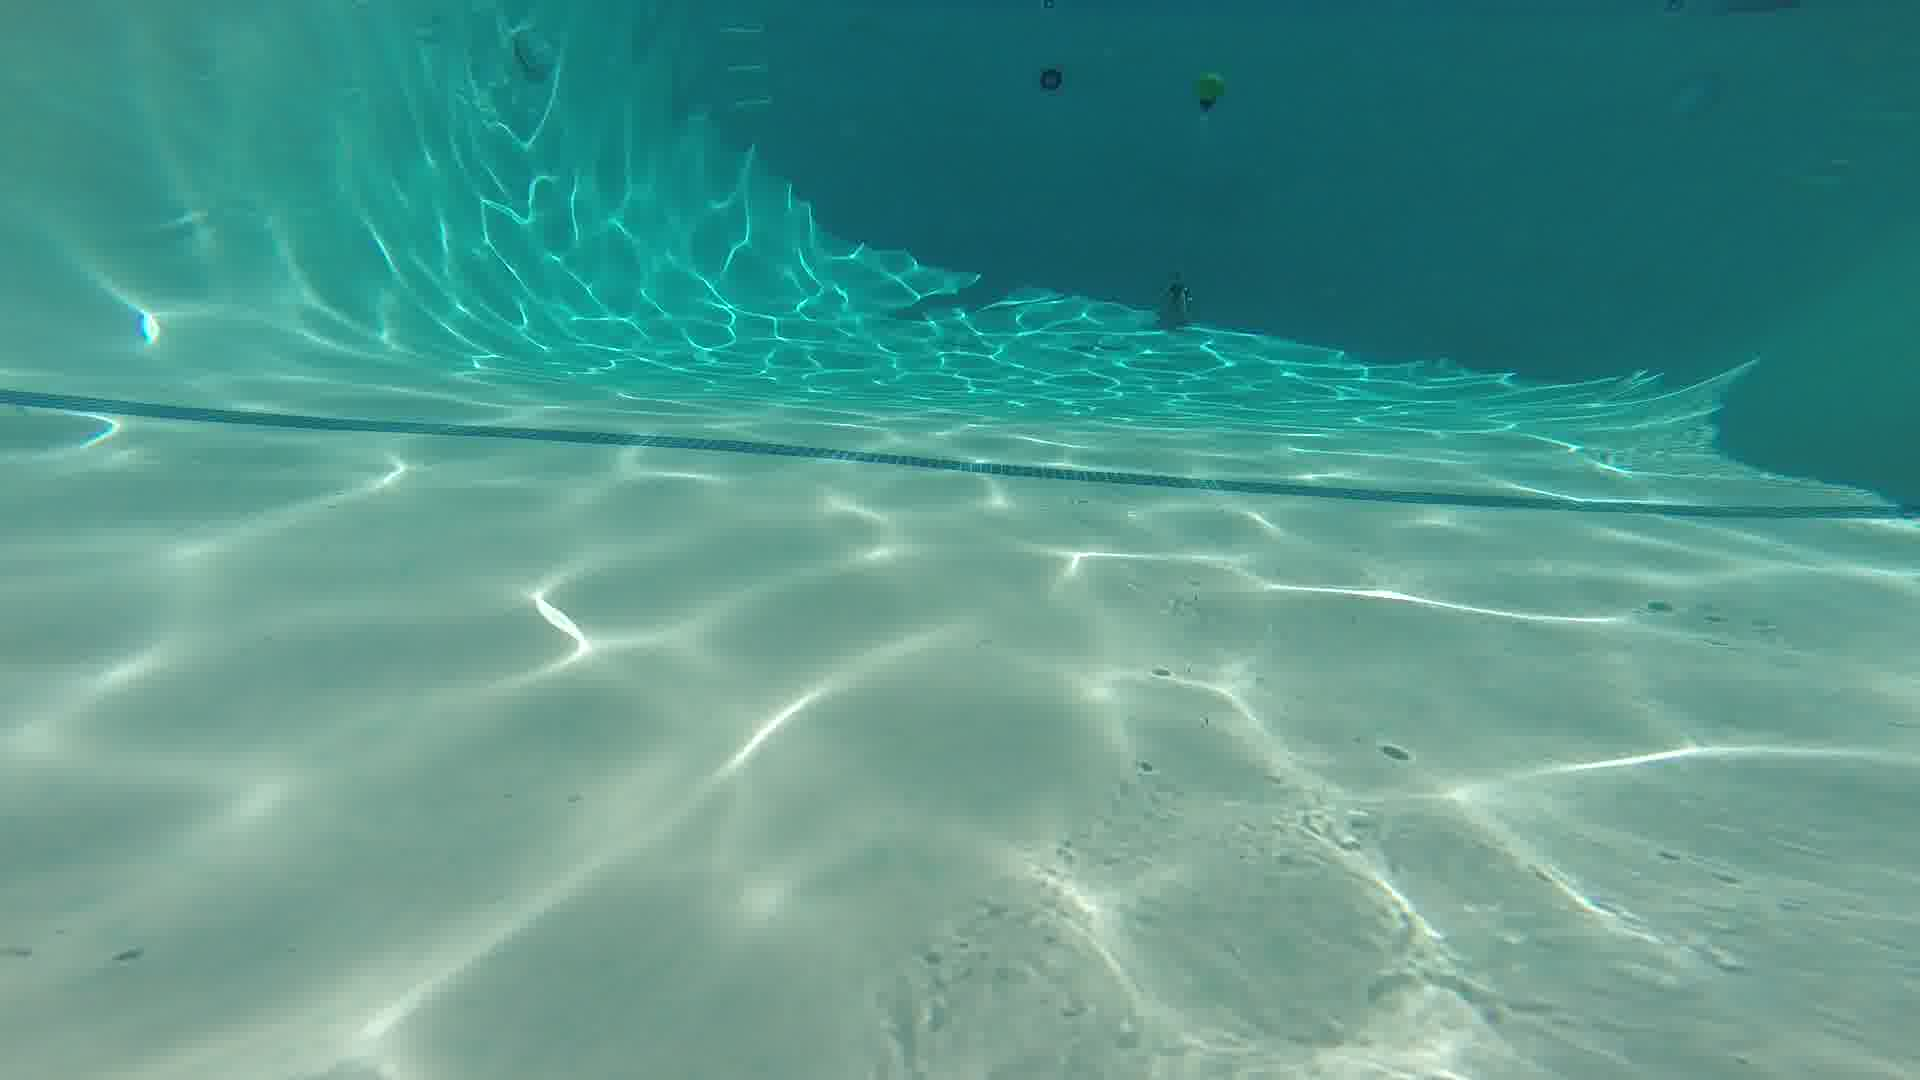yellow buoy: (1191, 65, 1225, 120)
